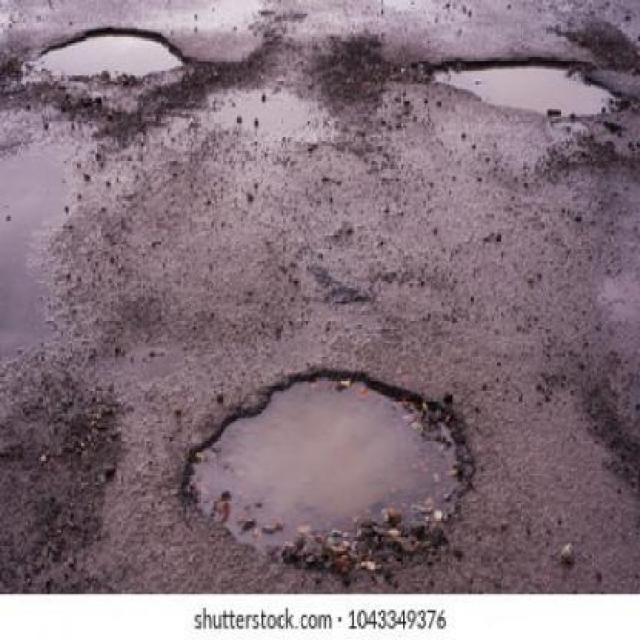Pothole: (176, 368, 481, 574), (419, 52, 630, 121), (19, 25, 192, 87)
